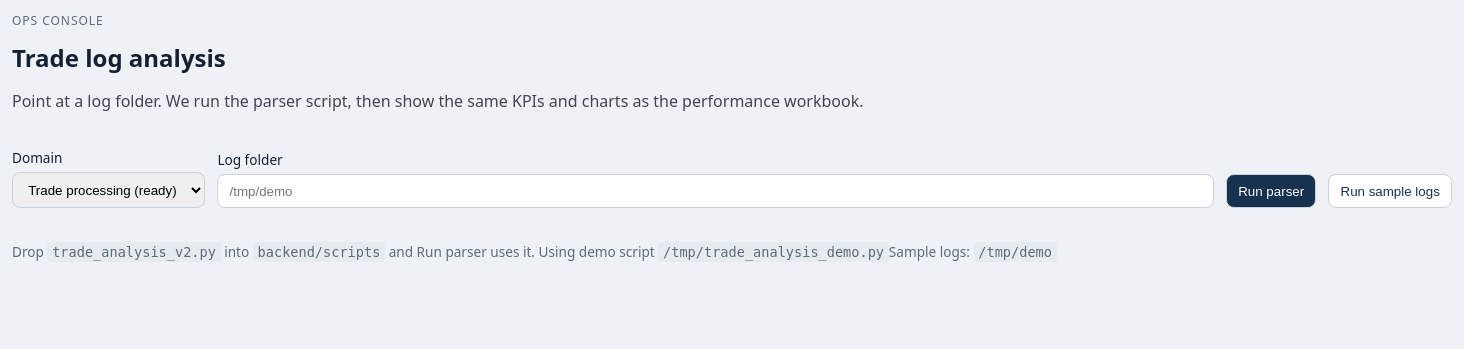
Test case: OverviewComponent › surfaces analyze errors
Click the button with test id "sample": (1390, 191) [1328,174,1452,208]
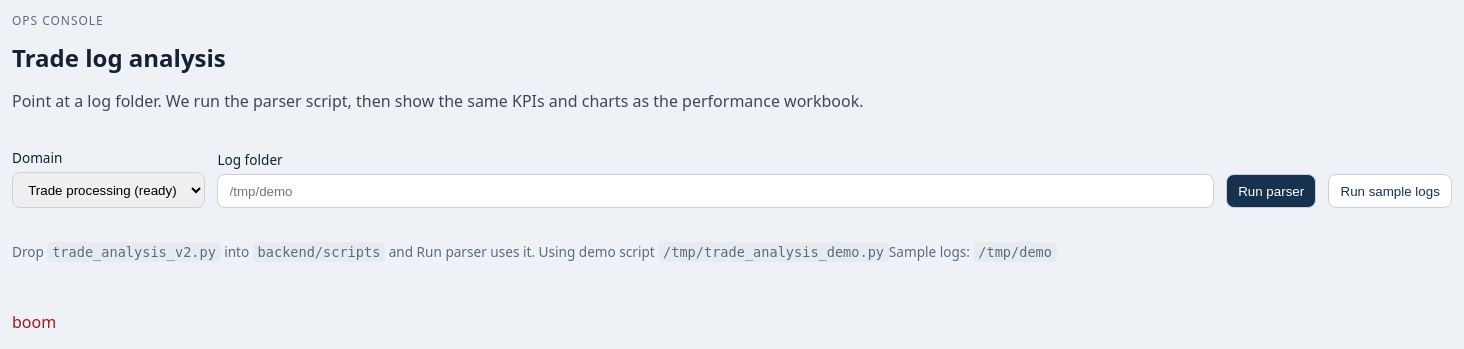
Expected: the text with test id "error" reads "boom", [12,311,56,333]
